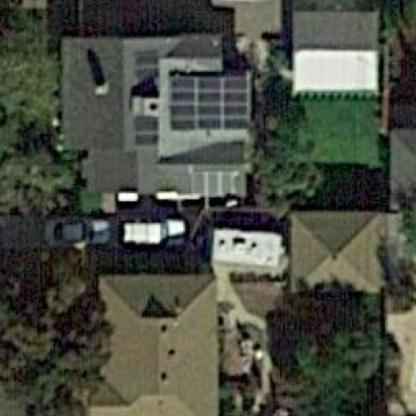car: (33, 203, 117, 254), (122, 205, 200, 255)
solar_panel: (153, 64, 262, 138), (180, 160, 249, 201)
